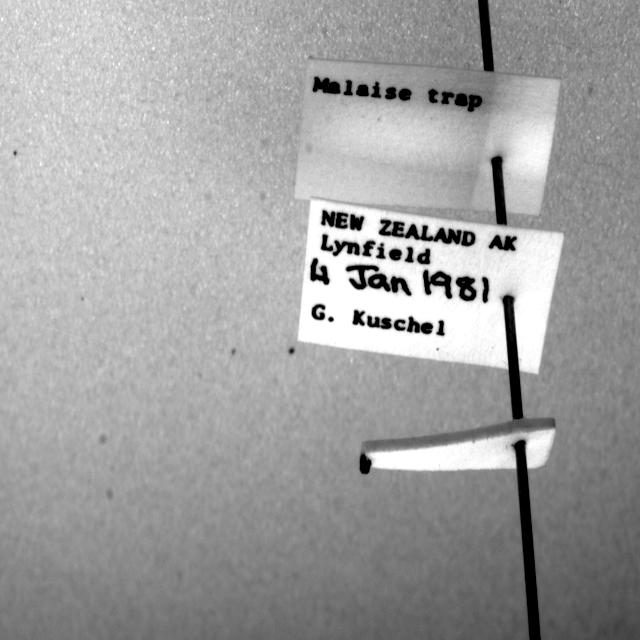mixed_label: (299, 201, 564, 373)
typed_label: (295, 58, 560, 216)
